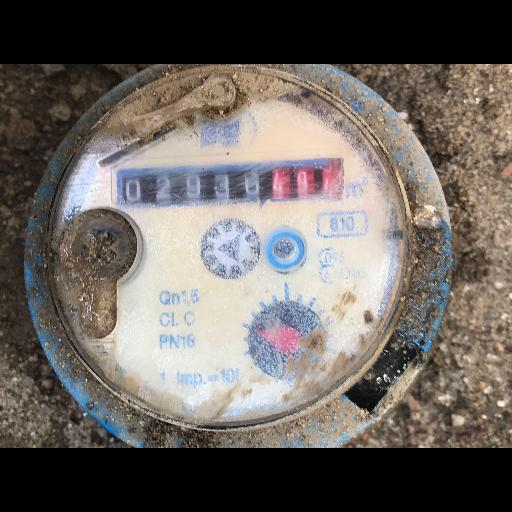0: (242, 168, 263, 199), (124, 174, 145, 204)
2: (152, 173, 174, 203)
3: (211, 169, 233, 201)
4: (322, 159, 342, 200), (270, 167, 290, 199)
9: (184, 171, 205, 202), (295, 166, 314, 198)
border_water_meter_number: (116, 158, 345, 208)
